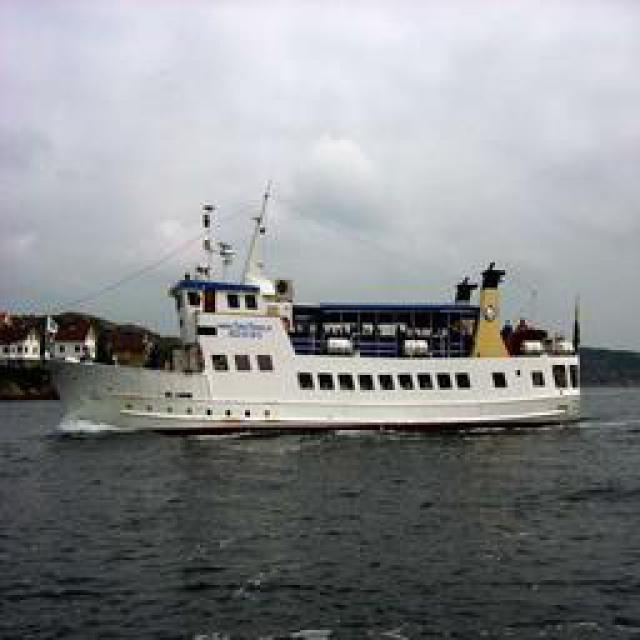Ship: (43, 185, 598, 430)
